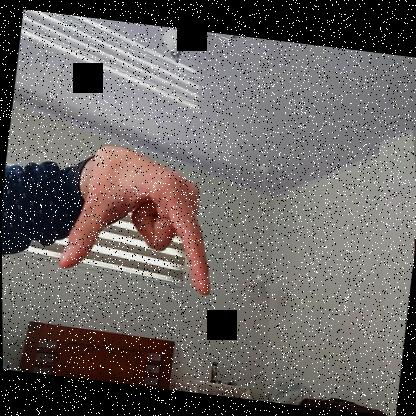Q: (55, 146, 226, 298)
